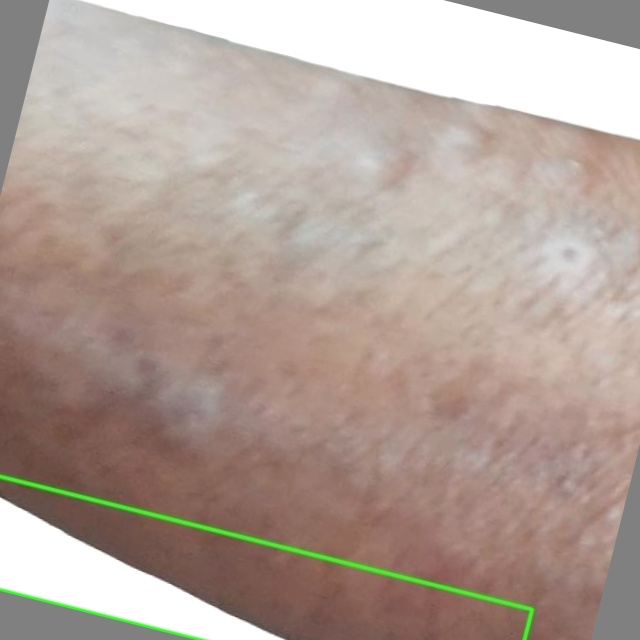Tinea Corporis: (0, 476, 532, 639)
